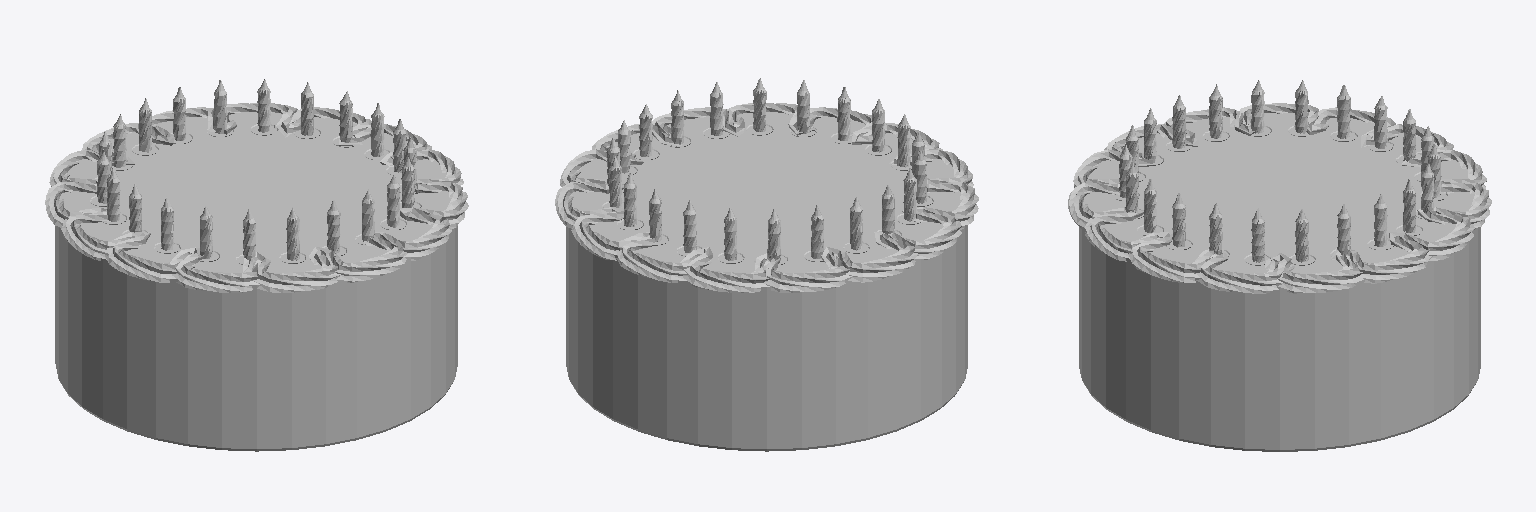
The model's file is cake.obj.
The picture shows the model from 3 angles: view 1: azimuth 30°, elevation 25°; view 2: azimuth 150°, elevation 25°; view 3: azimuth 270°, elevation 25°; orthographic projection.
Parts seen in each view (by area): view 1: Cake; view 2: Cake; view 3: Cake.
Boxes of the visible parts, <box> form: Cake: <box>45,79,468,451</box>; Cake: <box>555,78,978,451</box>; Cake: <box>1068,80,1491,451</box>.
Bounding box in the file's own units: 152 × 89.03 × 152.